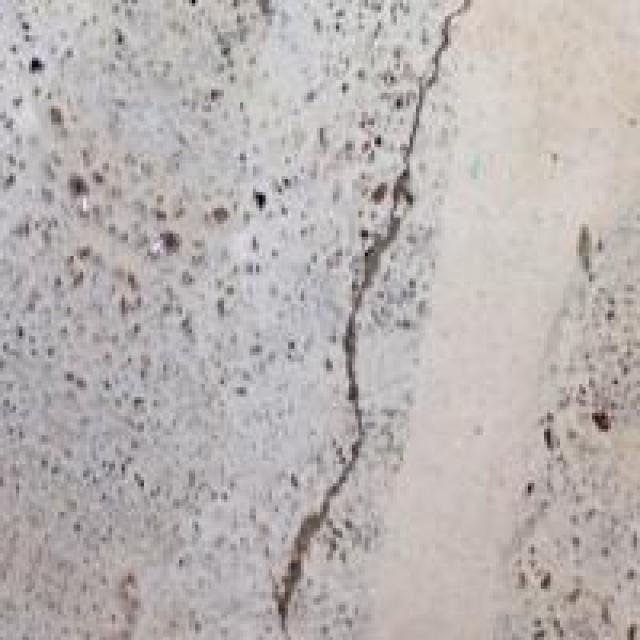Crack: (176, 0, 512, 637)
